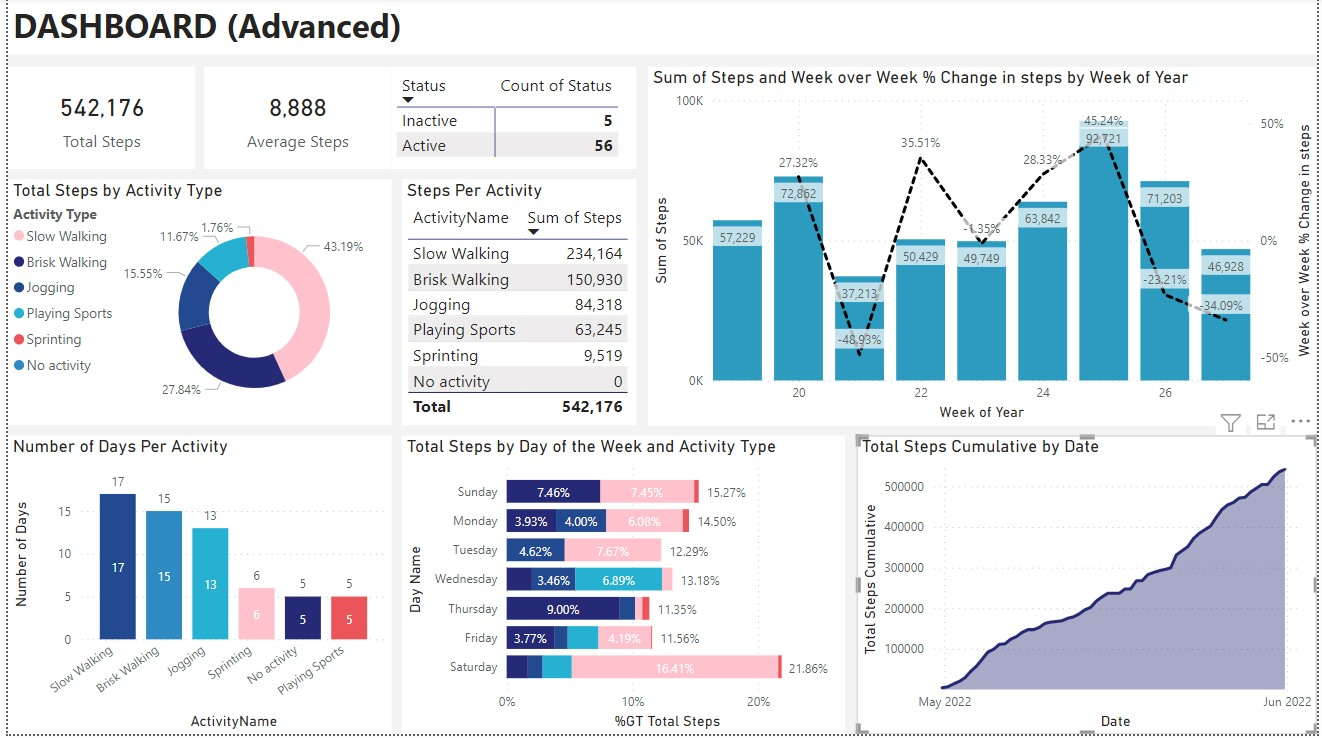

The dashboard page shown, as its layout file describes it:
{"tool":"powerbi","page":{"name":"Page 2","canvas":[1280,720],"ordinal":1},"visuals":[{"type":"card","fields":{"Values":["Calculation.Total Steps"]},"box":[0,67.2,183.4,100.2],"z":0},{"type":"card","fields":{"Values":["Calculation.Average Steps"]},"box":[191.9,67.2,183.4,100.2],"z":1000},{"type":"textbox","box":[0,0,1279.9,55],"z":2000},{"type":"donutChart","title":"Total Steps by Activity Type","fields":{"Category":["DIM_Activity.ActivityName"],"Y":["Calculation.Total Steps"]},"box":[0,177.2,375.3,240.8],"z":3000},{"type":"lineStackedColumnComboChart","fields":{"Category":["DIM_Date.Week of Year"],"Y":["Sum(FACT_Activity.Steps)"],"Y2":["Advanced Calculations.Week over Week % Change in steps"]},"box":[625.9,67.2,654,350.8],"z":4000},{"type":"barChart","title":"Total Steps by Day of the Week and Activity Type","fields":{"Series":["DIM_Activity.ActivityName"],"Category":["DIM_Date.Day Name"],"Y":["Calculation.Total Steps"]},"box":[385.1,427.8,434,292.2],"z":5000},{"type":"columnChart","title":"Number of Days Per Activity","fields":{"Category":["DIM_Activity.ActivityName"],"Y":["CountNonNull(FACT_Activity.Activity - FK)"],"Series":["DIM_Activity.Activity - PK"]},"box":[0,427.8,375.3,292.2],"z":6000},{"type":"areaChart","fields":{"Category":["FACT_Activity.Date"],"Y":["Advanced Calculations.Total Steps Cumulative"]},"box":[830,427.8,449.8,292.2],"z":7000},{"type":"tableEx","title":"Steps Per Activity","fields":{"Values":["DIM_Activity.ActivityName","Sum(FACT_Activity.Steps)"]},"box":[385.1,177.2,229.8,240.8],"z":8000},{"type":"pivotTable","fields":{"Values":["CountNonNull(FACT_Activity.Status of Day)"],"Rows":["FACT_Activity.Status of Day"]},"box":[375.3,67.2,239.6,100.2],"z":9000}]}

Visuals, with their boxes in screenshot pixels (x1, y1, x2, y2), scaled from the page's 1280x720 canvas onto the 1322x738 screenshot:
card - Calculation.Total Steps: 0/69/189/172
card - Calculation.Average Steps: 198/69/388/172
textbox: 0/0/1321/56
"Total Steps by Activity Type" donutChart: 0/182/388/428
lineStackedColumnComboChart - DIM_Date.Week of Year x Sum(FACT_Activity.Steps): 646/69/1321/428
"Total Steps by Day of the Week and Activity Type" barChart: 398/438/846/737
"Number of Days Per Activity" columnChart: 0/438/388/737
areaChart - FACT_Activity.Date x Advanced Calculations.Total Steps Cumulative: 857/438/1321/737
"Steps Per Activity" tableEx: 398/182/635/428
pivotTable - CountNonNull(FACT_Activity.Status of Day) x FACT_Activity.Status of Day: 388/69/635/172
